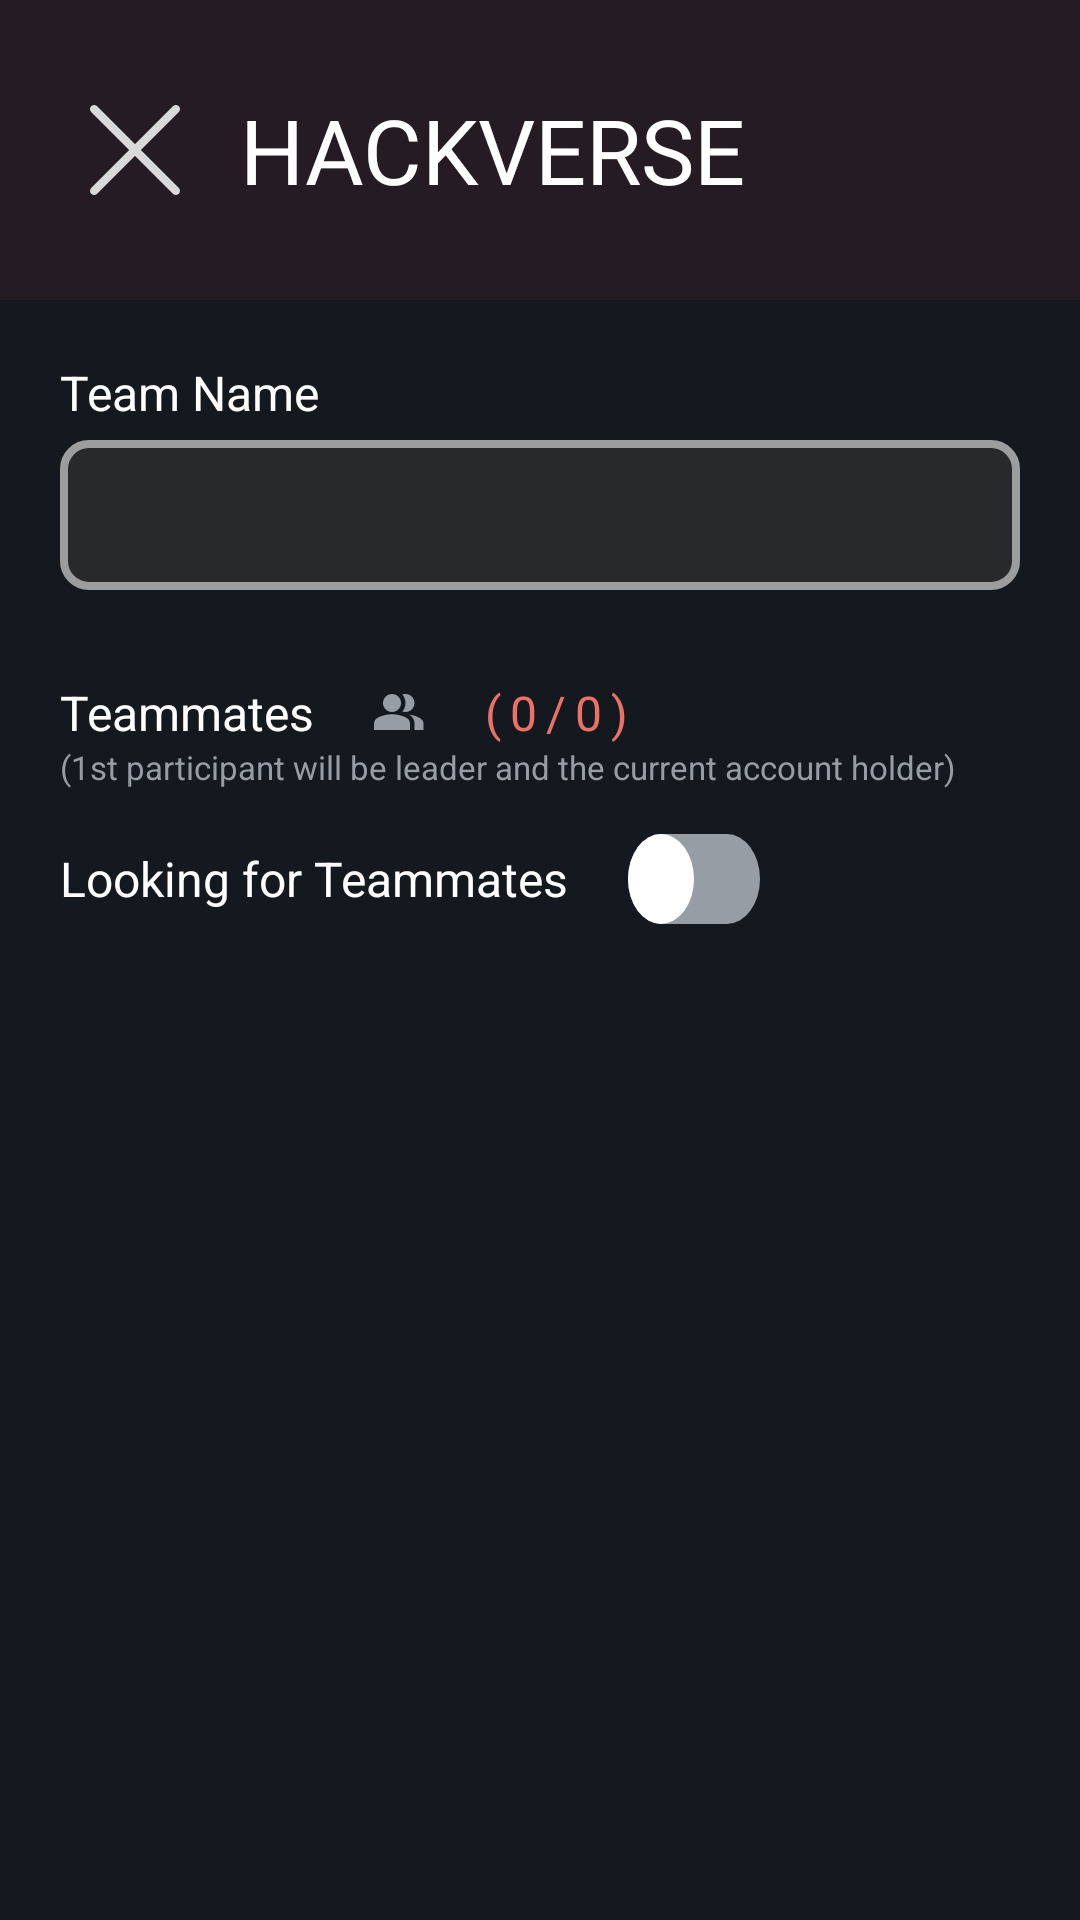

Where icons sit on this 1080x1920 app screen, as [x1, y1, x2, y2]:
close: [90, 105, 180, 195]
groupico: [374, 694, 424, 730]
